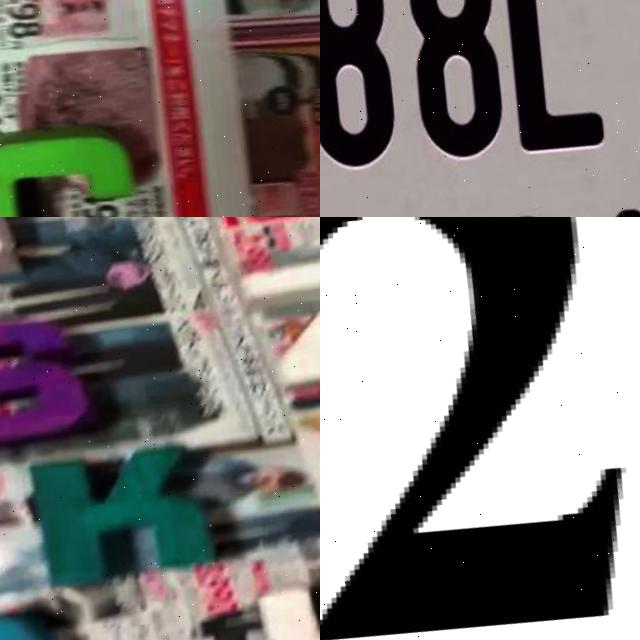2: (320, 217, 640, 640)
8: (382, 0, 531, 160), (320, 0, 431, 178)
C: (0, 106, 170, 217)
K: (32, 426, 231, 598)
L: (479, 0, 630, 151)
S: (0, 307, 98, 464)
Z: (239, 227, 320, 398)
